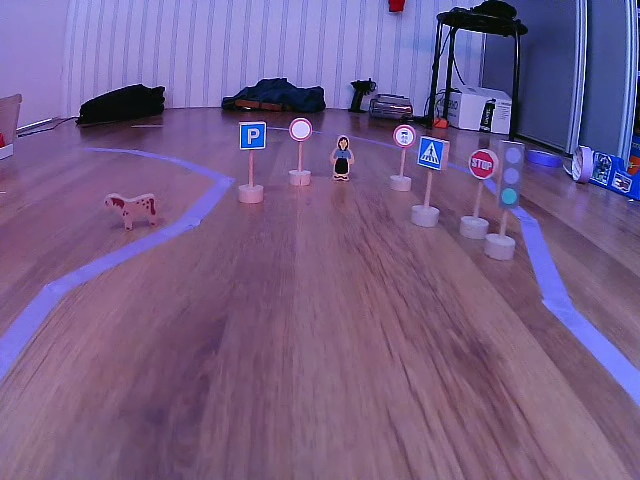fietspad: (394, 124, 414, 149)
groenlicht: (498, 140, 524, 209)
mens: (330, 133, 353, 183)
paard: (105, 192, 161, 229)
parkeerbord: (236, 119, 267, 151)
stopbord: (469, 148, 495, 181)
wegdicht: (290, 117, 311, 143)
zebrapad: (420, 136, 446, 169)
